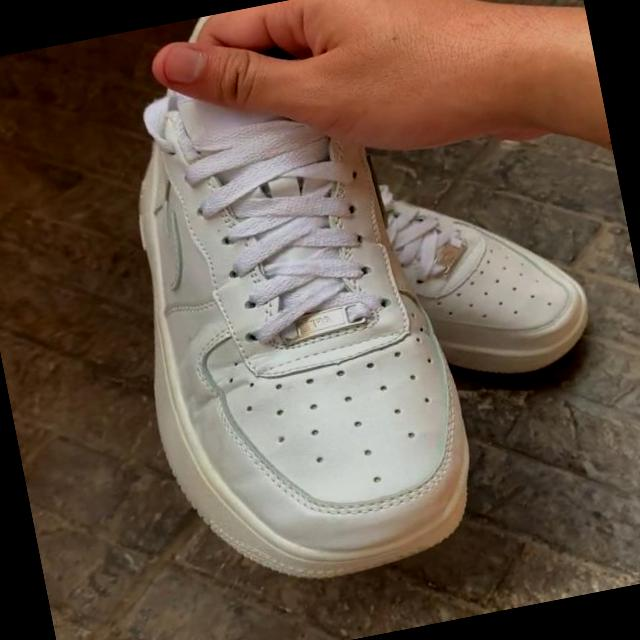nike_fake_airforce: (82, 0, 503, 603), (275, 161, 602, 422)
